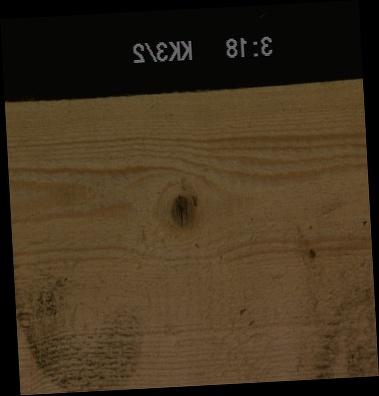small_knot: (304, 241, 320, 261)
sound_knot: (168, 192, 196, 228)
